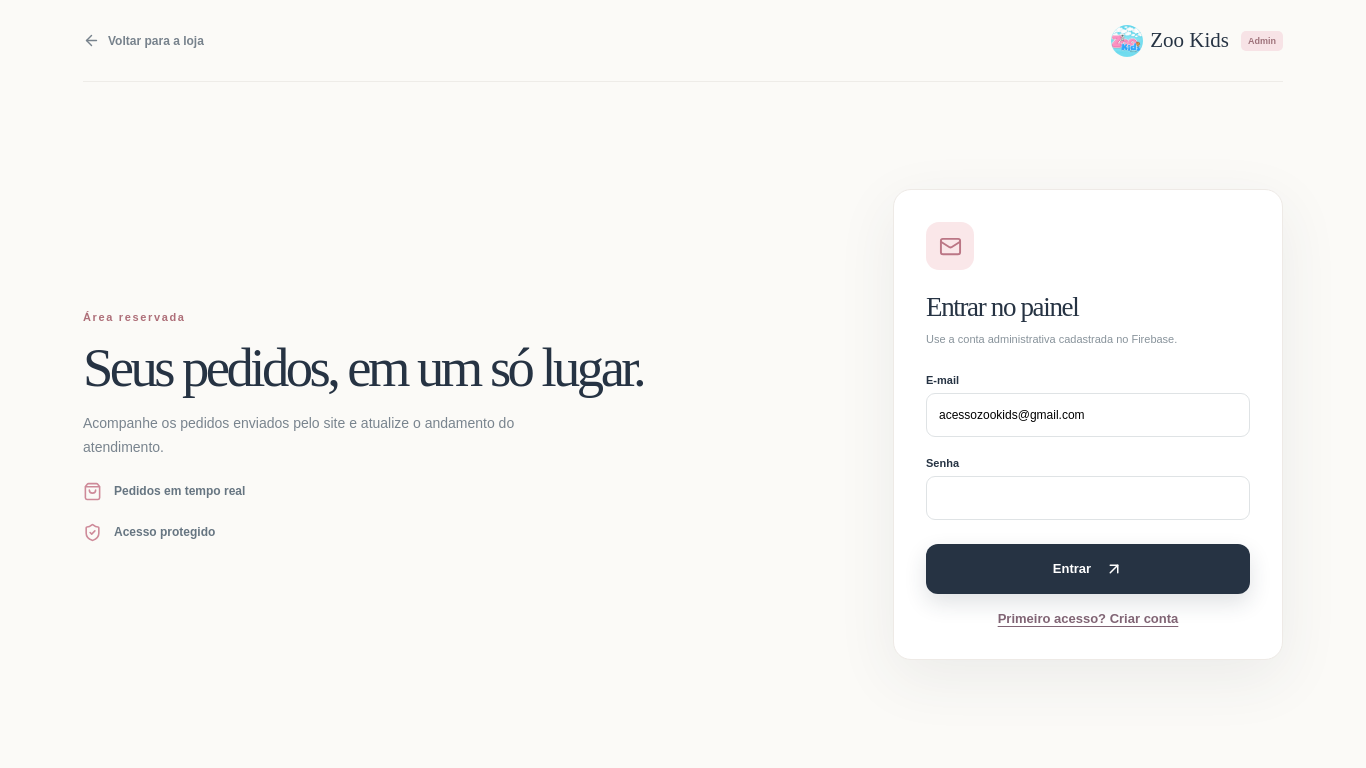
Test: primeiro acesso administrativo › permite escolher uma senha nova para o e-mail administrativo
Click the button "Primeiro acesso? Criar conta".
click(1088, 618)  # box x1=992 y1=610 x2=1184 y2=627
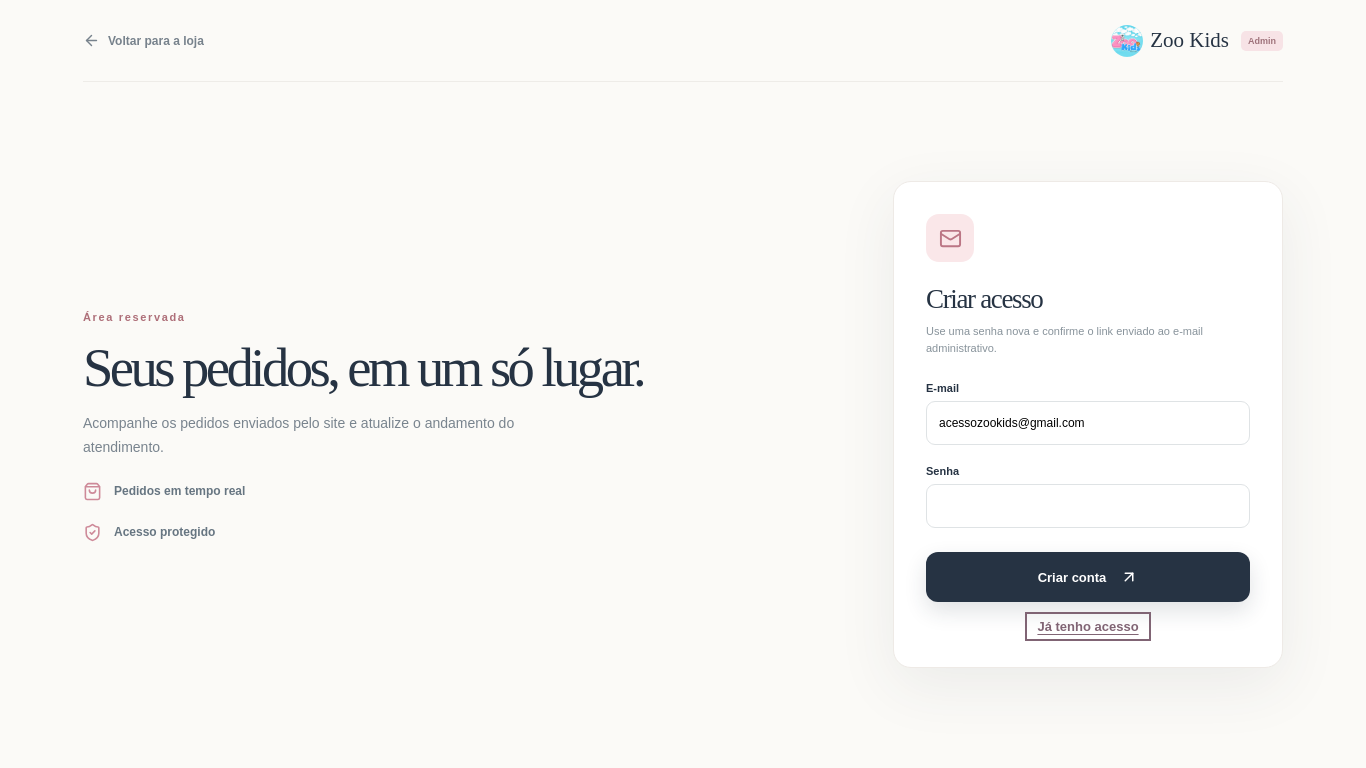
Expected: the field labelled "E-mail" holds "acessozookids@gmail.com", x1=926 y1=401 x2=1250 y2=445
Now the heading "Criar acesso" is shown, box x1=926 y1=284 x2=1042 y2=314
Now the button "Criar conta" is shown, box x1=926 y1=552 x2=1250 y2=602
